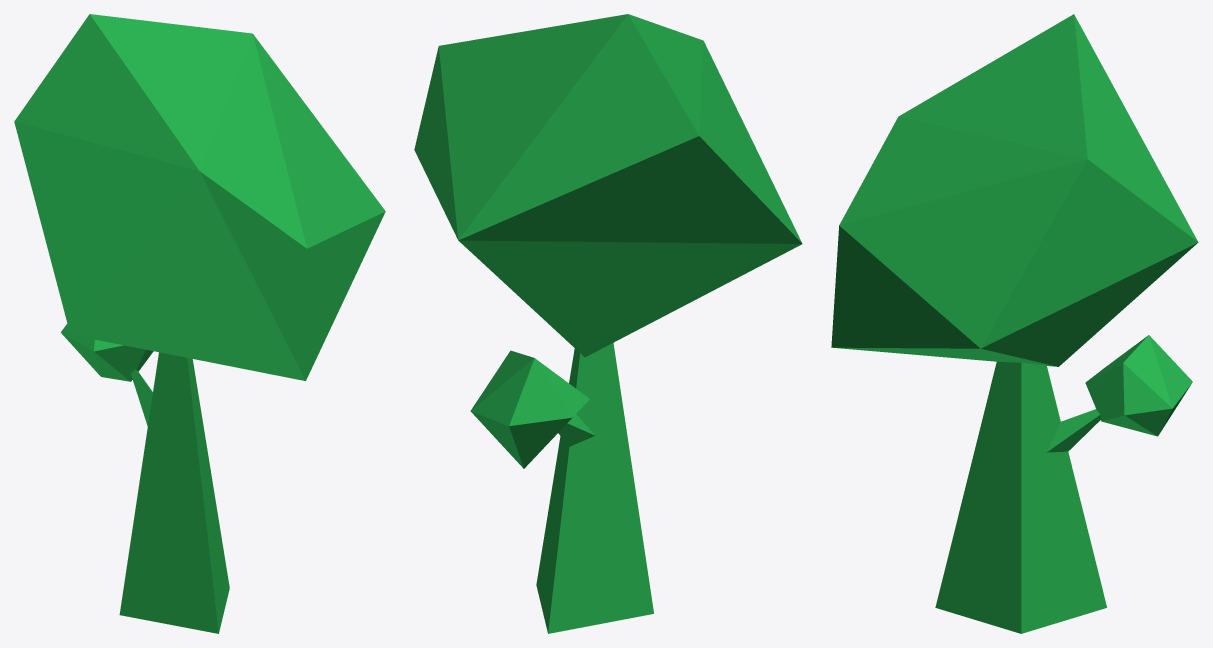
Rendered from arbolito2.fbx.
3 views of the same model, side by side, from view 1: azimuth 30°, elevation 25°; view 2: azimuth 150°, elevation 25°; view 3: azimuth 270°, elevation 25° (orthographic). The views are drawn at different scales.
Parts seen in each view (by area): view 1: Arbol, Arbol.002; view 2: Arbol, Arbol.002; view 3: Arbol, Arbol.002.
Part boxes in pixels (box(x1,y1,x2,y2)): Arbol: box(14, 14, 385, 633); Arbol.002: box(61, 323, 153, 426); Arbol: box(414, 14, 802, 633); Arbol.002: box(470, 350, 595, 468); Arbol: box(831, 14, 1198, 633); Arbol.002: box(1046, 335, 1192, 452).
Bounding box in the file's own units: 444 × 727 × 427.
